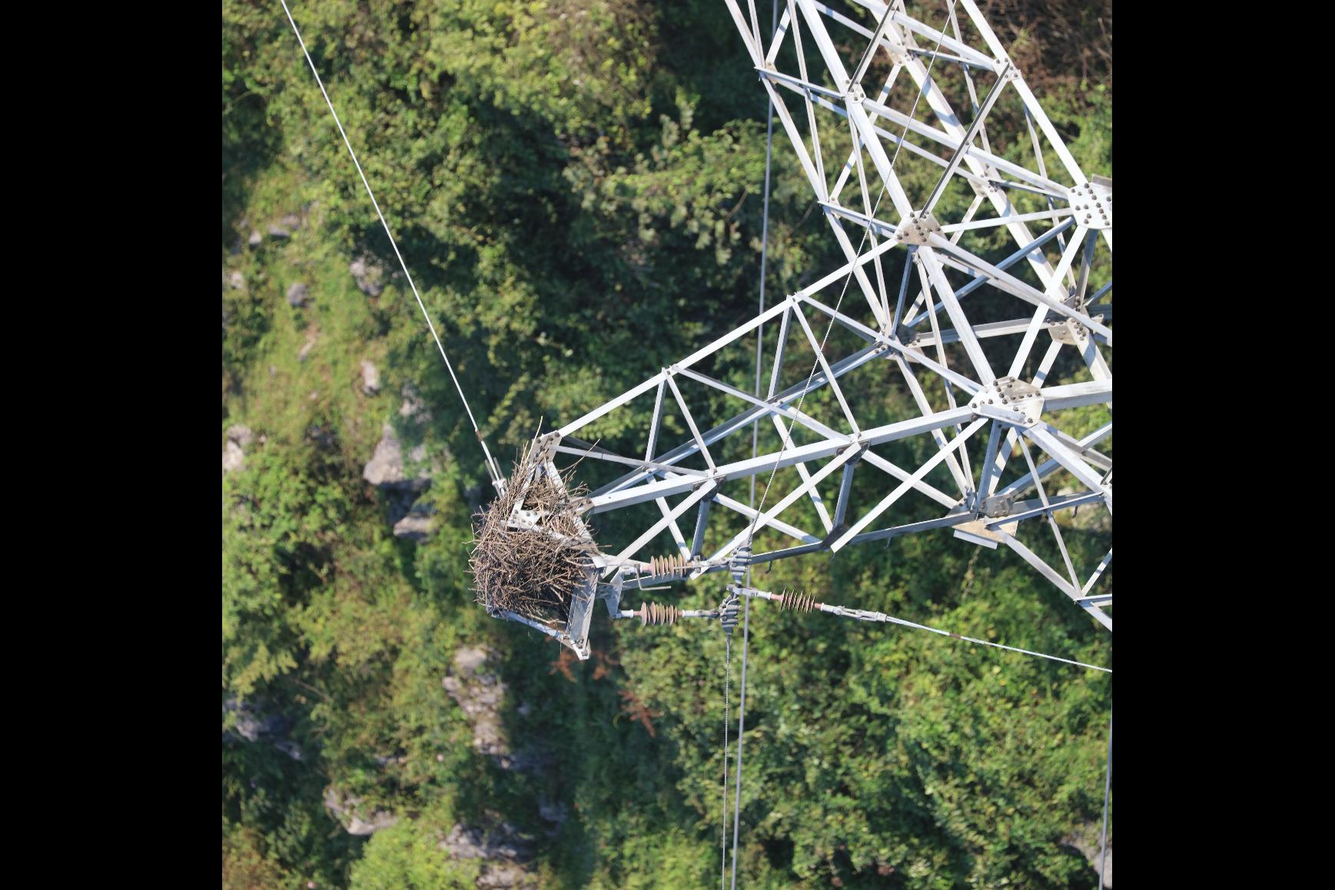nest: (463, 441, 595, 626)
